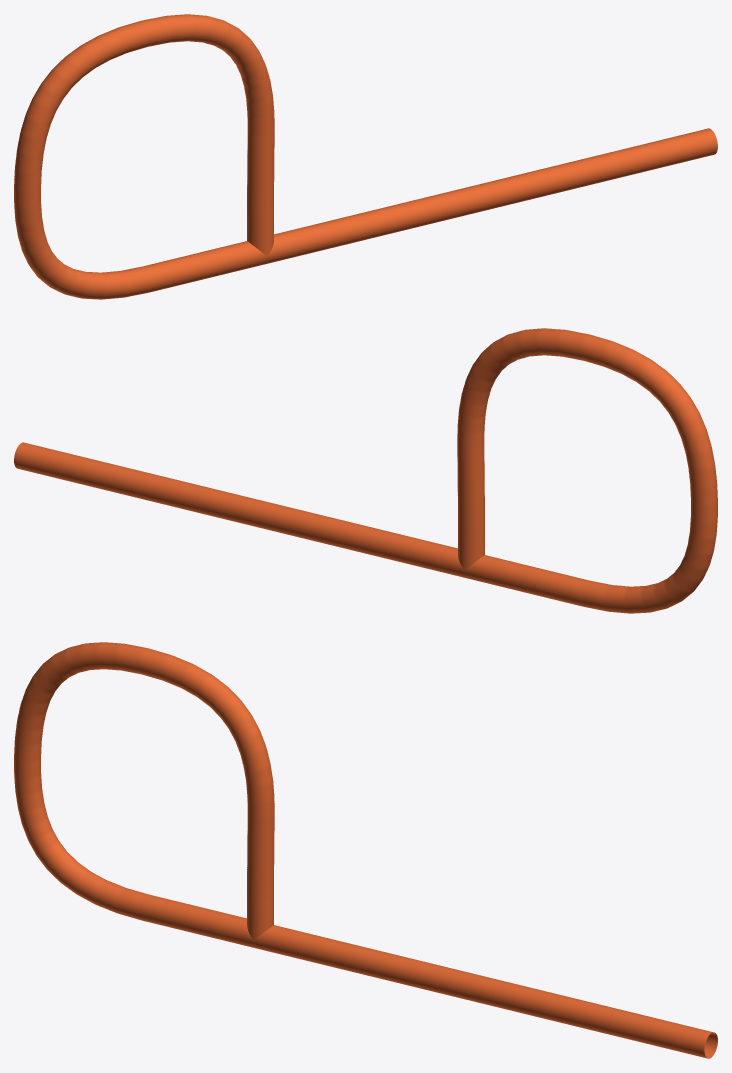
The model's file is Pin.fbx.
3 views of the same model, one above another, from view 1: azimuth 30°, elevation 25°; view 2: azimuth 150°, elevation 25°; view 3: azimuth 330°, elevation 25° (orthographic).
Parts seen in each view (by area): view 1: Circle; view 2: Circle; view 3: Circle.
Part boxes in pixels (x1,y1,x2,y2): Circle: [14, 14, 717, 299]; Circle: [14, 328, 717, 613]; Circle: [14, 642, 717, 1058].
Size of the model in its own units: 237 by 88.16 by 8.
